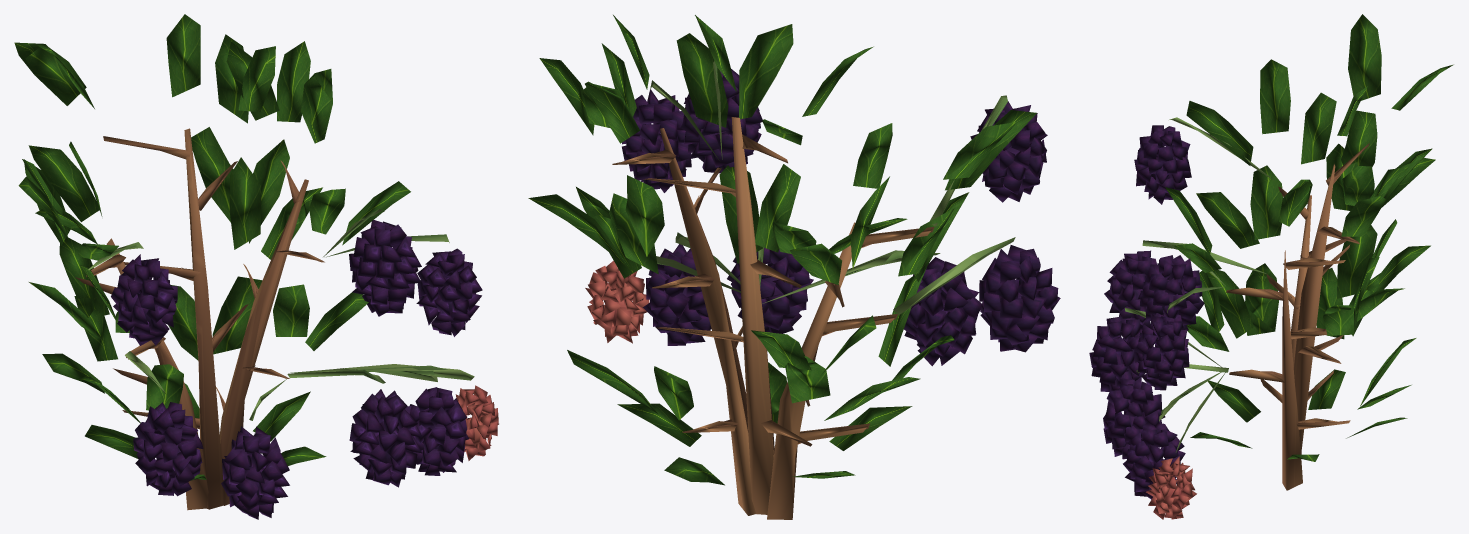
File: NP_Blackberry_Ready_LOD1.fbx
3 views of the same model, side by side, from view 1: azimuth 30°, elevation 25°; view 2: azimuth 150°, elevation 25°; view 3: azimuth 270°, elevation 25° (orthographic). The views are drawn at different scales.
Visible parts, largest first — view 1: NP_Blackberry_Ready; view 2: NP_Blackberry_Ready; view 3: NP_Blackberry_Ready.
Boxes of the visible parts, bbox=[...] form: NP_Blackberry_Ready: bbox=[14, 14, 498, 519]; NP_Blackberry_Ready: bbox=[528, 15, 1060, 519]; NP_Blackberry_Ready: bbox=[1089, 14, 1453, 519].
Bounding box in the file's own units: 101 × 105 × 85.18.
